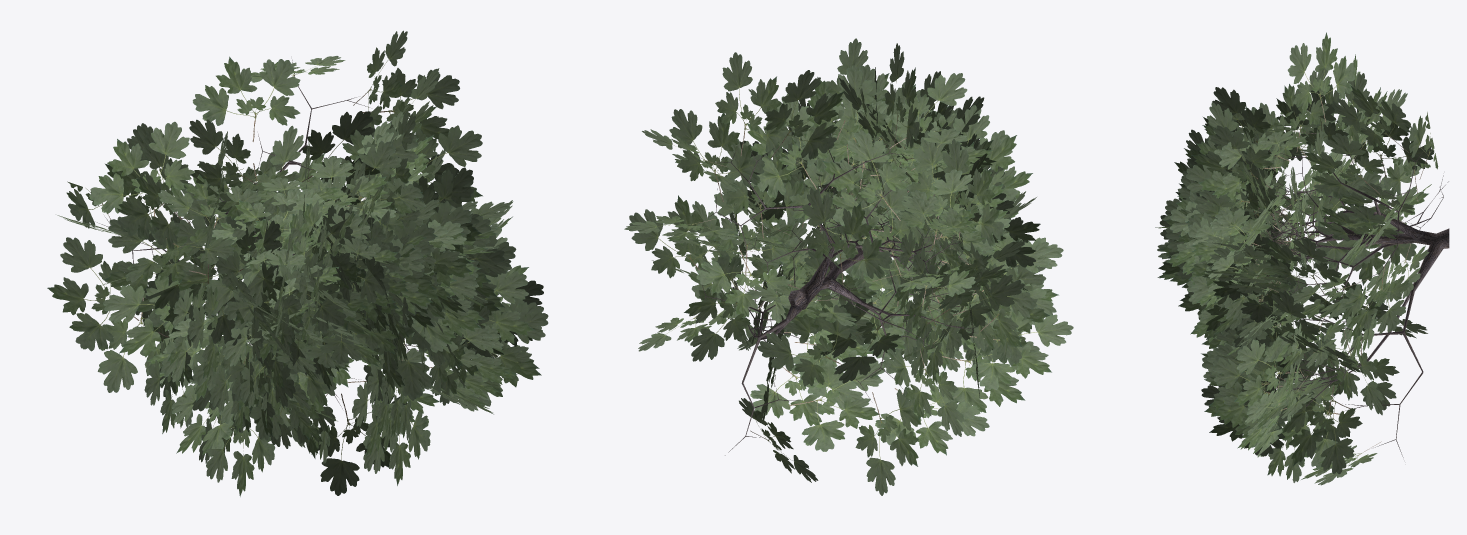
The model's file is Sandbox Shrub2.dae.
3 views of the same model, side by side, from view 1: azimuth 30°, elevation 25°; view 2: azimuth 150°, elevation 25°; view 3: azimuth 270°, elevation 25° (orthographic). The views are drawn at different scales.
Visible parts, largest first — view 1: group_1, group; view 2: group_1, group; view 3: group_1, group.
Boxes of the visible parts, box(x1,y1,x2,y2) form: group_1: box(47, 30, 548, 496); group: box(97, 60, 418, 408); group_1: box(624, 38, 1073, 495); group: box(702, 127, 978, 455); group_1: box(1155, 32, 1438, 485); group: box(1260, 121, 1449, 457).
Bounding box in the file's own units: 3.66 × 3.77 × 2.51.
Materials: 2 (2 with a texture image).
